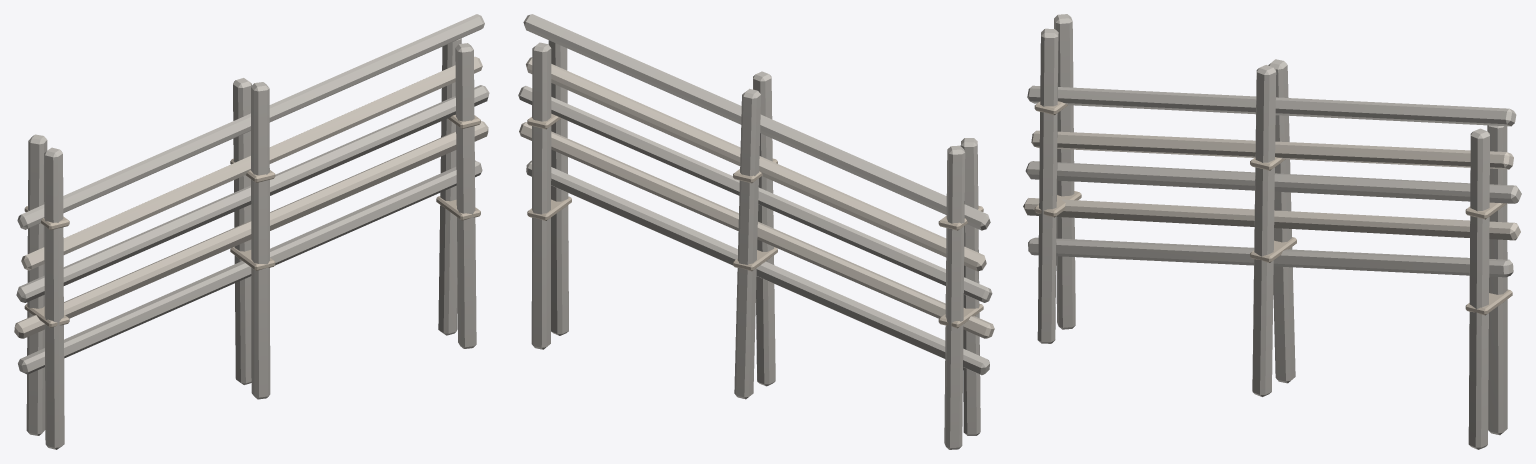
Rendered from rail_fence.glb.
3 renders of one model, left to right at view 1: azimuth 30°, elevation 25°; view 2: azimuth 150°, elevation 25°; view 3: azimuth 330°, elevation 25°, orthographic. The views are drawn at different scales.
Parts seen in each view (by area): view 1: band; view 2: band; view 3: band.
Boxes of the visible parts, x1,y1,x2,y2 form: band: [14, 14, 489, 449]; band: [518, 14, 994, 449]; band: [1023, 14, 1521, 449].
Bounding box in the file's own units: 2.29 × 1.49 × 0.2396.
